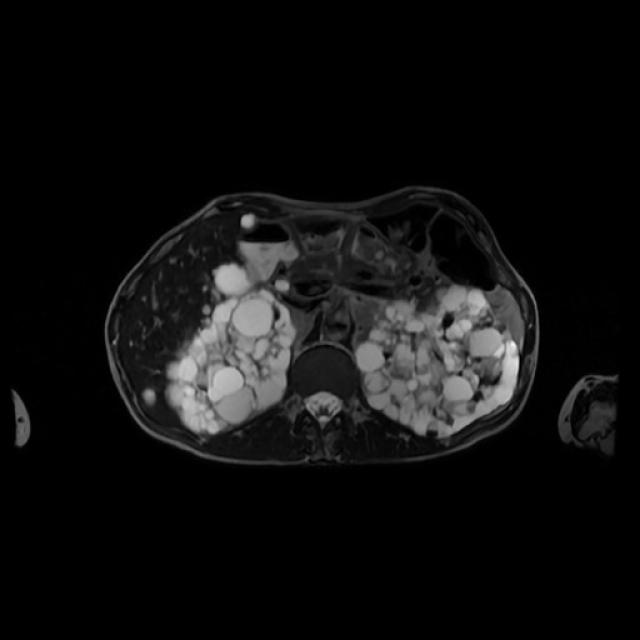sag: (165, 287, 296, 437)
sol: (354, 285, 522, 438)
